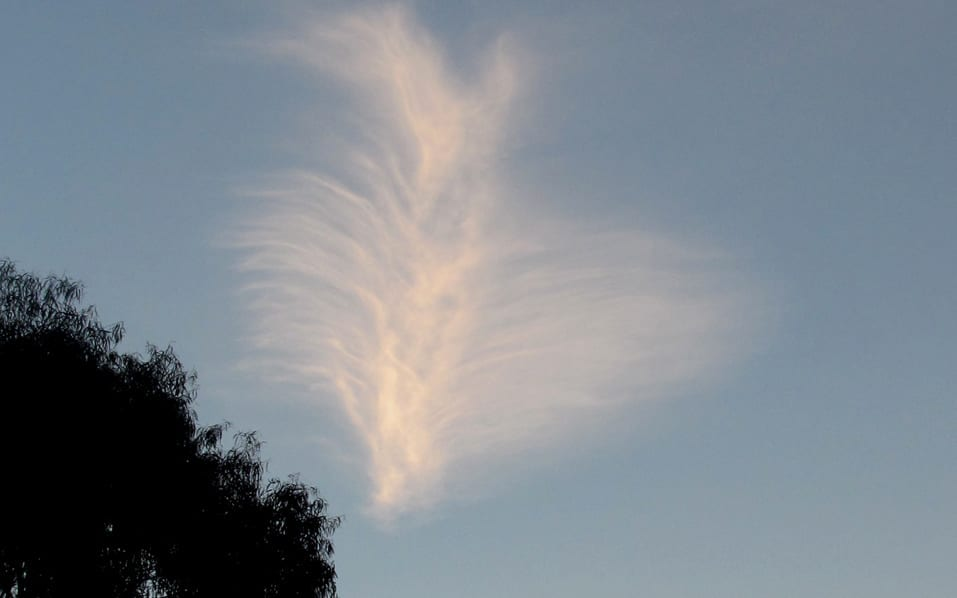Cirrus: (230, 1, 738, 529)
